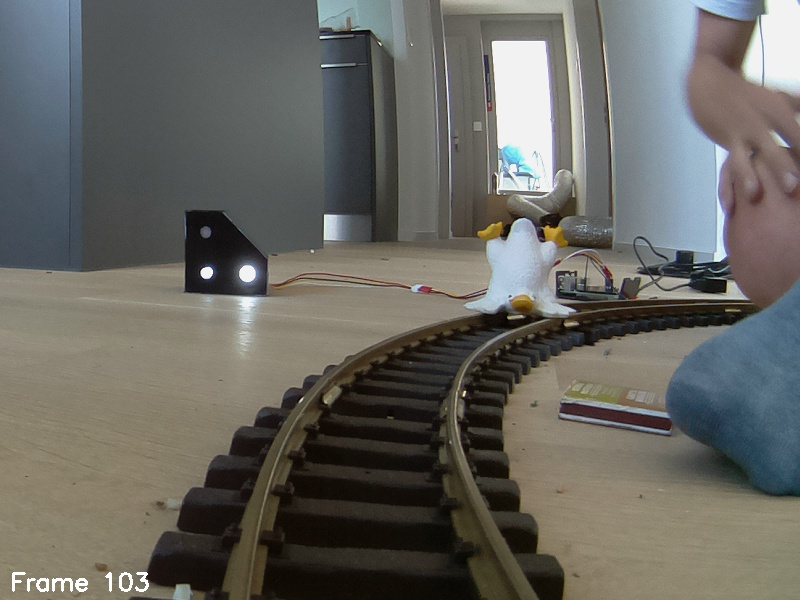Ente: (461, 220, 574, 322)
Halt: (185, 209, 266, 296)
